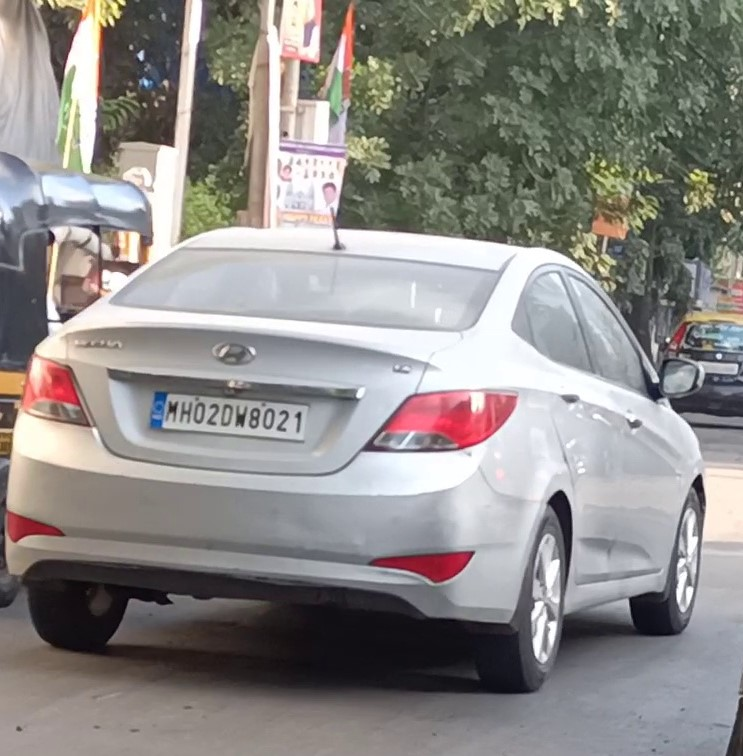MH02DW8021: (148, 392, 309, 441)
